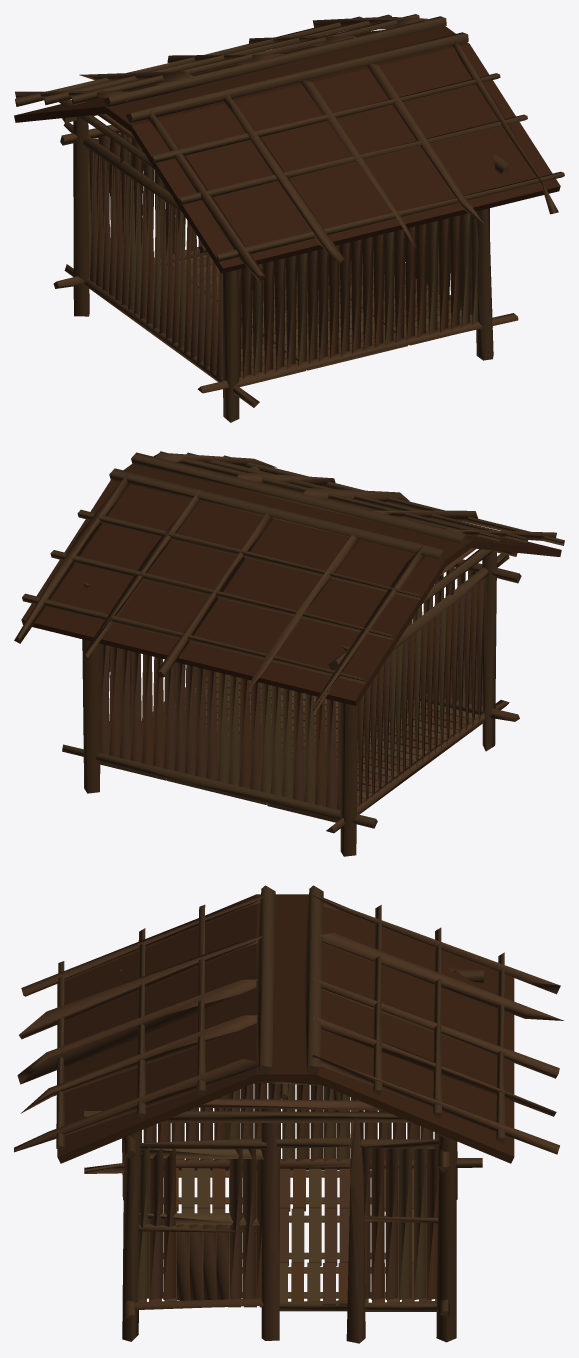
File: choi-go.glb
The picture shows the model from 3 angles, top to bottom: view 1: azimuth 30°, elevation 25°; view 2: azimuth 150°, elevation 25°; view 3: azimuth 270°, elevation 25°; orthographic projection. The views are drawn at different scales.
Parts seen in each view (by area): view 1: Object_4; view 2: Object_4; view 3: Object_4.
Boxes of the visible parts, box(x1,y1,x2,y2) form: Object_4: box(14, 14, 564, 422); Object_4: box(14, 451, 564, 856); Object_4: box(14, 885, 563, 1343).
Bounding box in the file's own units: 0.7869 × 0.5916 × 0.9957.
1 material, 1 textured.
